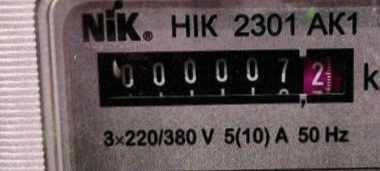0: (211, 55, 228, 83), (117, 61, 134, 88), (180, 56, 196, 84), (149, 59, 165, 86), (243, 55, 258, 83)
2: (308, 60, 324, 86)
7: (274, 54, 289, 84)
screen: (84, 39, 364, 114)
